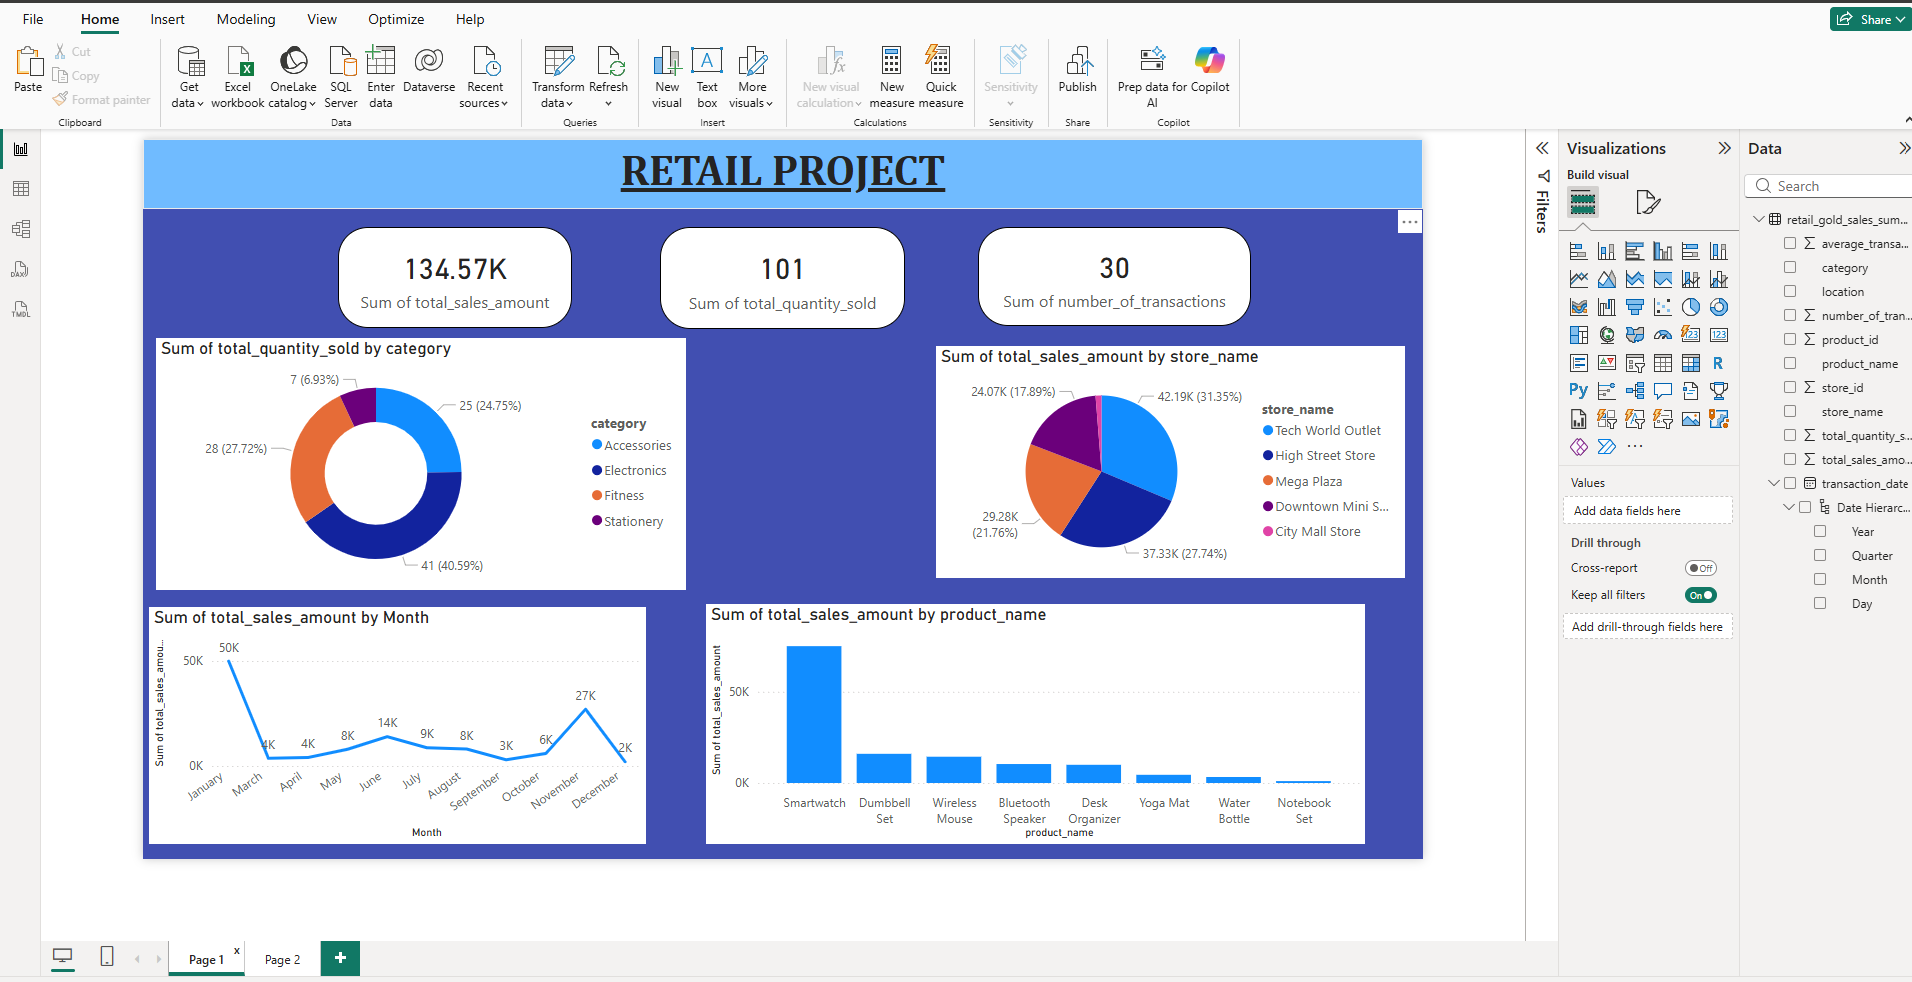

The dashboard page shown, as its layout file describes it:
{"tool":"powerbi","page":{"name":"Page 1","canvas":[1280,720],"ordinal":0},"visuals":[{"type":"textbox","box":[0,0,1280.3,70],"z":0},{"type":"card","fields":{"Values":["Sum(retail_gold_sales_summary.total_sales_amount)"]},"box":[195,88,234,101],"z":1000},{"type":"card","fields":{"Values":["Sum(retail_gold_sales_summary.total_quantity_sold)"]},"box":[517,88,245,102],"z":2000},{"type":"card","fields":{"Values":["Sum(retail_gold_sales_summary.number_of_transactions)"]},"box":[835,88,273,99],"z":3000},{"type":"lineChart","fields":{"Category":["retail_gold_sales_summary.transaction_date.Variation.Date Hierarchy.Month","retail_gold_sales_summary.transaction_date.Variation.Date Hierarchy.Day"],"Y":["Sum(retail_gold_sales_summary.total_sales_amount)"]},"box":[6,468,497,237],"z":4000},{"type":"pieChart","fields":{"Y":["Sum(retail_gold_sales_summary.total_sales_amount)"],"Category":["retail_gold_sales_summary.store_name"]},"box":[793,207,469,232],"z":5000},{"type":"columnChart","fields":{"Y":["Sum(retail_gold_sales_summary.total_sales_amount)"],"Category":["retail_gold_sales_summary.product_name"]},"box":[563,465,659,240],"z":6000},{"type":"donutChart","fields":{"Y":["Sum(retail_gold_sales_summary.total_quantity_sold)"],"Series":["retail_gold_sales_summary.category"]},"box":[13,199,530,252],"z":6001}]}

Visuals, with their boxes on the page's 1280x720 design canvas (x1, y1, x2, y2). These are canvas units, not pixel positions in the 1912x982 screenshot, which may show the page scaled, cropped or inside an application window:
textbox: [left=0, top=0, right=1280, bottom=70]
card - Sum(retail_gold_sales_summary.total_sales_amount): [left=195, top=88, right=429, bottom=189]
card - Sum(retail_gold_sales_summary.total_quantity_sold): [left=517, top=88, right=762, bottom=190]
card - Sum(retail_gold_sales_summary.number_of_transactions): [left=835, top=88, right=1108, bottom=187]
lineChart - retail_gold_sales_summary.transaction_date.Variation.Date Hierarchy.Month x retail_gold_sales_summary.transaction_date.Variation.Date Hierarchy.Day: [left=6, top=468, right=503, bottom=705]
pieChart - Sum(retail_gold_sales_summary.total_sales_amount) x retail_gold_sales_summary.store_name: [left=793, top=207, right=1262, bottom=439]
columnChart - Sum(retail_gold_sales_summary.total_sales_amount) x retail_gold_sales_summary.product_name: [left=563, top=465, right=1222, bottom=705]
donutChart - Sum(retail_gold_sales_summary.total_quantity_sold) x retail_gold_sales_summary.category: [left=13, top=199, right=543, bottom=451]
